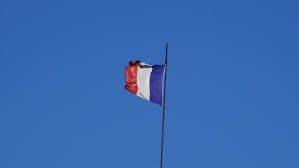French Flag: (124, 59, 165, 105)
